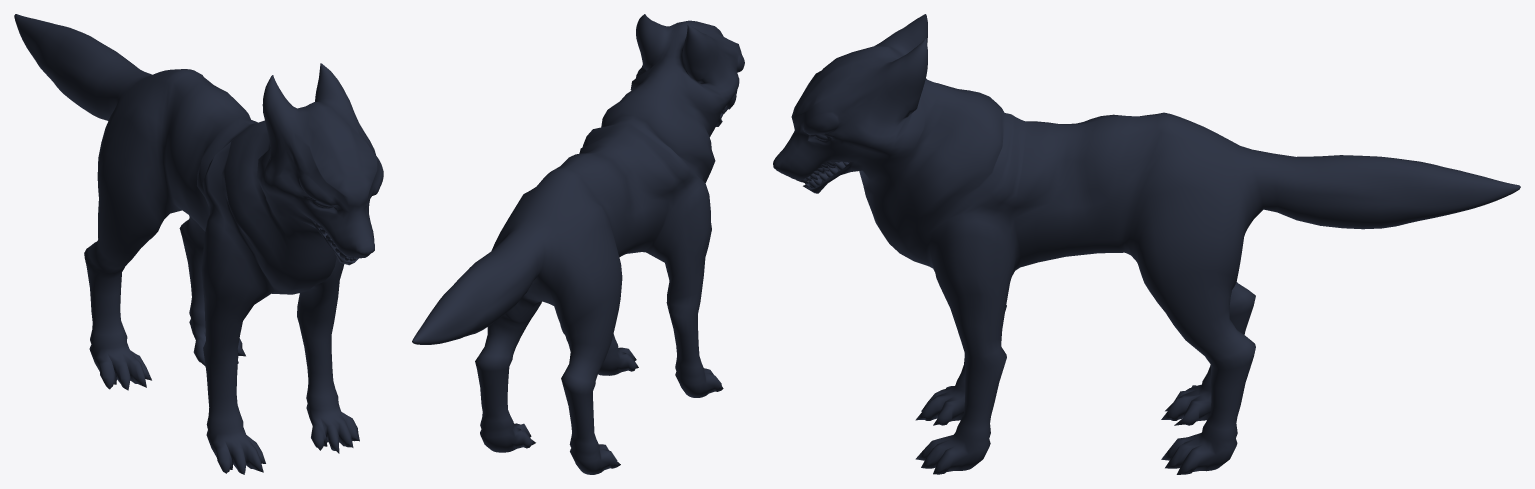
File: WolfRigWithModelFORREALTexturebase.fbx
3 views of the same model, side by side, from view 1: azimuth 30°, elevation 25°; view 2: azimuth 150°, elevation 25°; view 3: azimuth 270°, elevation 25° (orthographic). The views are drawn at different scales.
Visible parts, largest first — view 1: Body.001; view 2: Body.001; view 3: Body.001.
Part boxes in pixels (x1,y1,x2,y2): Body.001: (14, 14, 383, 474); Body.001: (412, 14, 744, 474); Body.001: (773, 14, 1520, 474).
Size of the model in its own units: 110 by 294 by 482.
